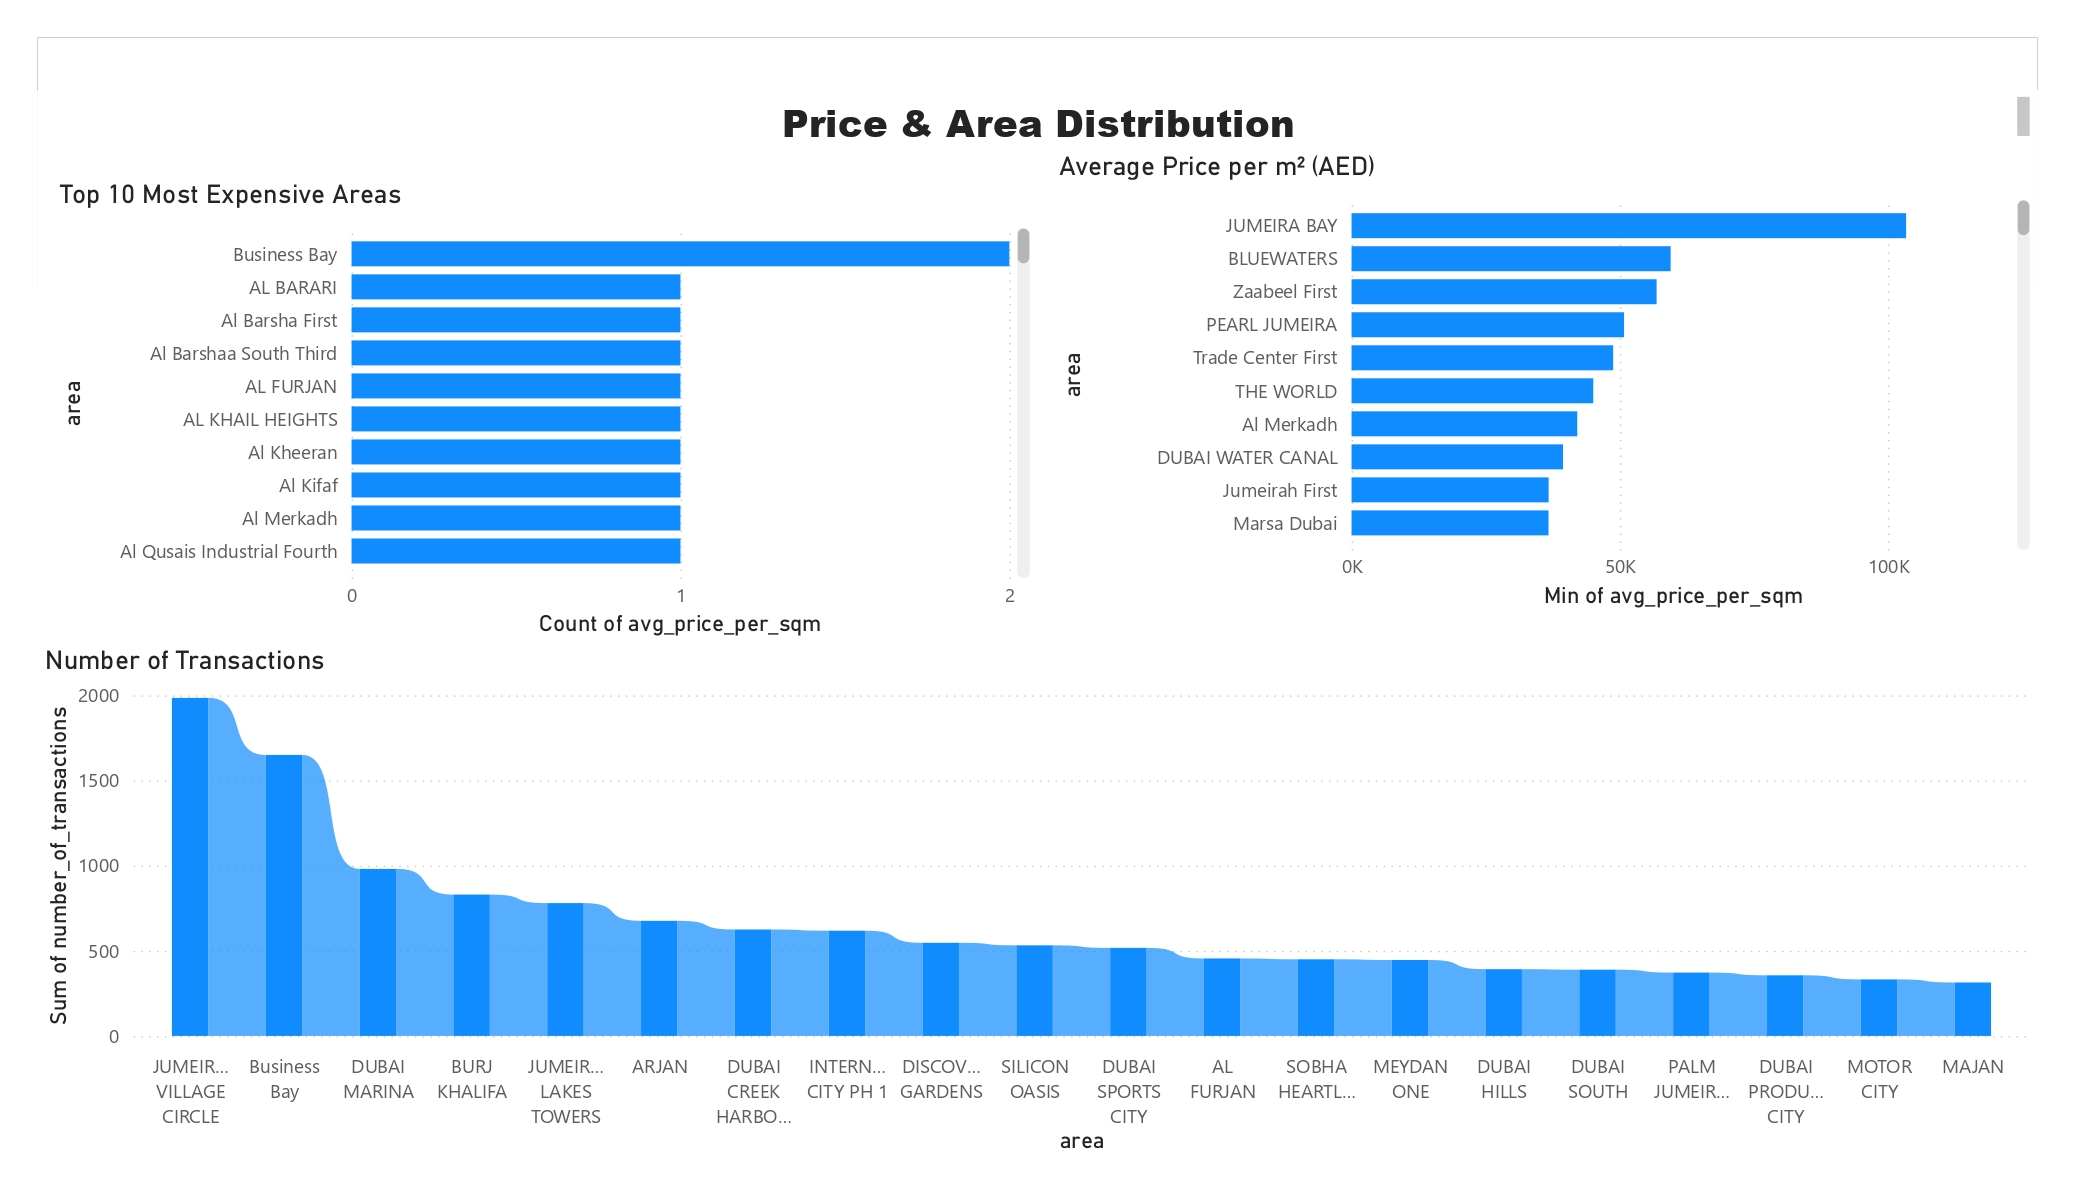

This screenshot's page, from the dashboard's own definition file:
{"tool":"powerbi","page":{"name":"2. Price & Area Analysis","canvas":[1280,720],"ordinal":1},"visuals":[{"type":"textbox","box":[9.2,33.1,1270.8,38.6],"z":0},{"type":"clusteredBarChart","title":"Top 10 Most Expensive Areas","fields":{"Category":["02_Price_By_Area.area"],"Y":["CountNonNull(02_Price_By_Area.avg_price_per_sqm)"]},"box":[9.2,90.1,630.8,297.9],"z":1000},{"type":"clusteredBarChart","title":"Average Price per m² (AED)","fields":{"Category":["02_Price_By_Area.area"],"Y":["Min(02_Price_By_Area.avg_price_per_sqm)"]},"box":[649.2,71.7,630.8,297.9],"z":2000},{"type":"ribbonChart","title":"Number of Transactions","fields":{"Category":["02_Price_By_Area.area"],"Y":["Sum(02_Price_By_Area.number_of_transactions)"]},"box":[0,388,1280,331],"z":3000}]}

Visuals, with their boxes on the page's 1280x720 design canvas (x1, y1, x2, y2). These are canvas units, not pixel positions in the 2075x1200 screenshot, which may show the page scaled, cropped or inside an application window:
textbox: bbox=(9, 33, 1280, 72)
"Top 10 Most Expensive Areas" clusteredBarChart: bbox=(9, 90, 640, 388)
"Average Price per m² (AED)" clusteredBarChart: bbox=(649, 72, 1280, 370)
"Number of Transactions" ribbonChart: bbox=(0, 388, 1280, 719)
